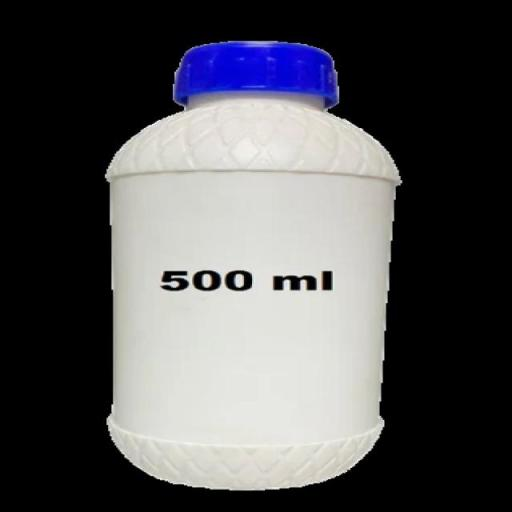plastic: (106, 38, 406, 488)
